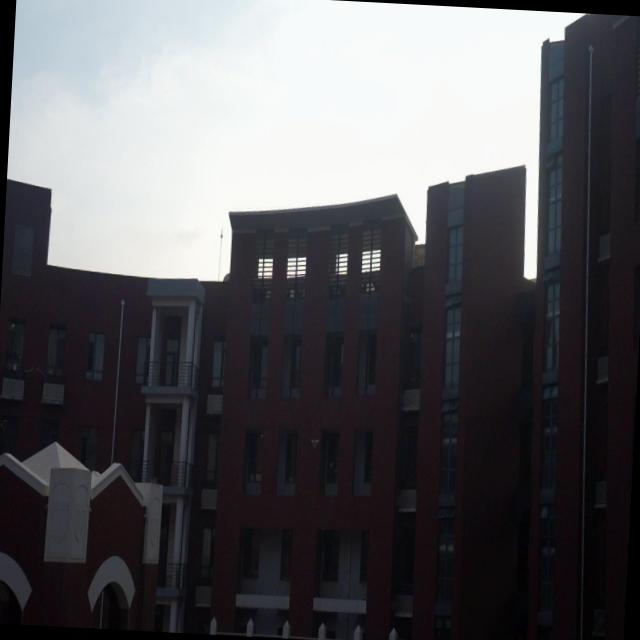drone: (308, 432, 321, 450)
